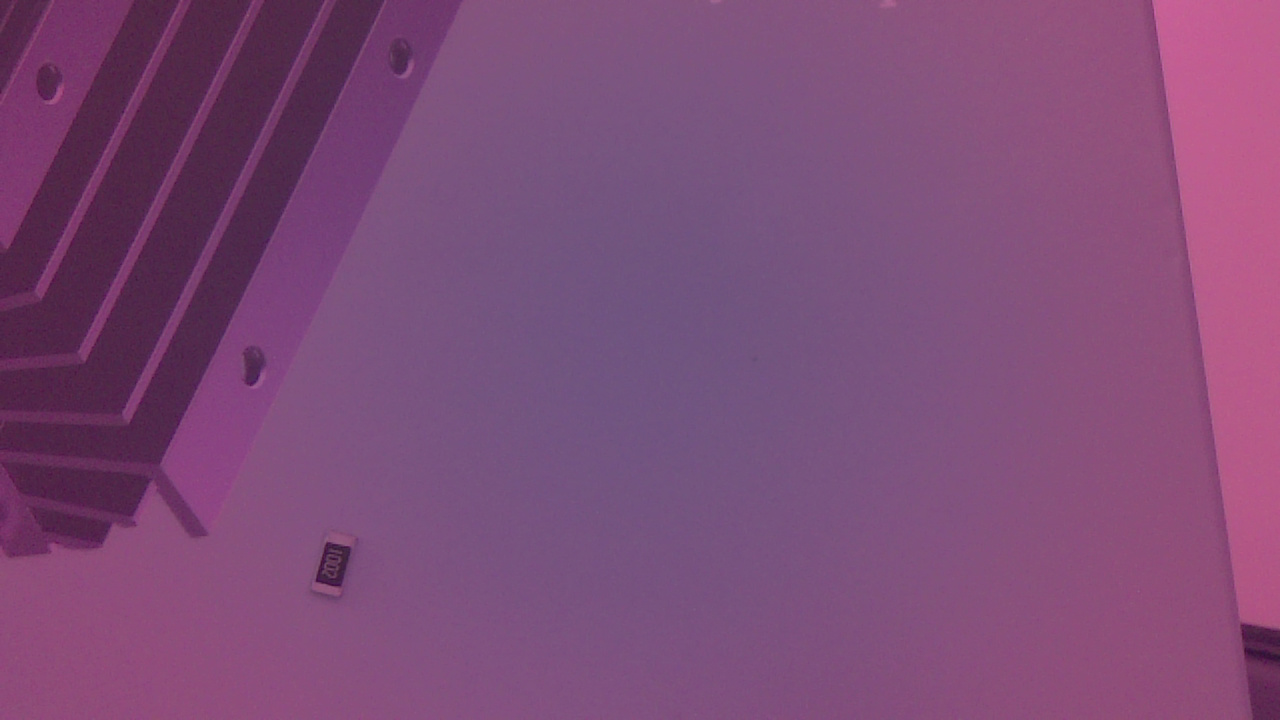Resistor: (297, 530, 377, 604)
